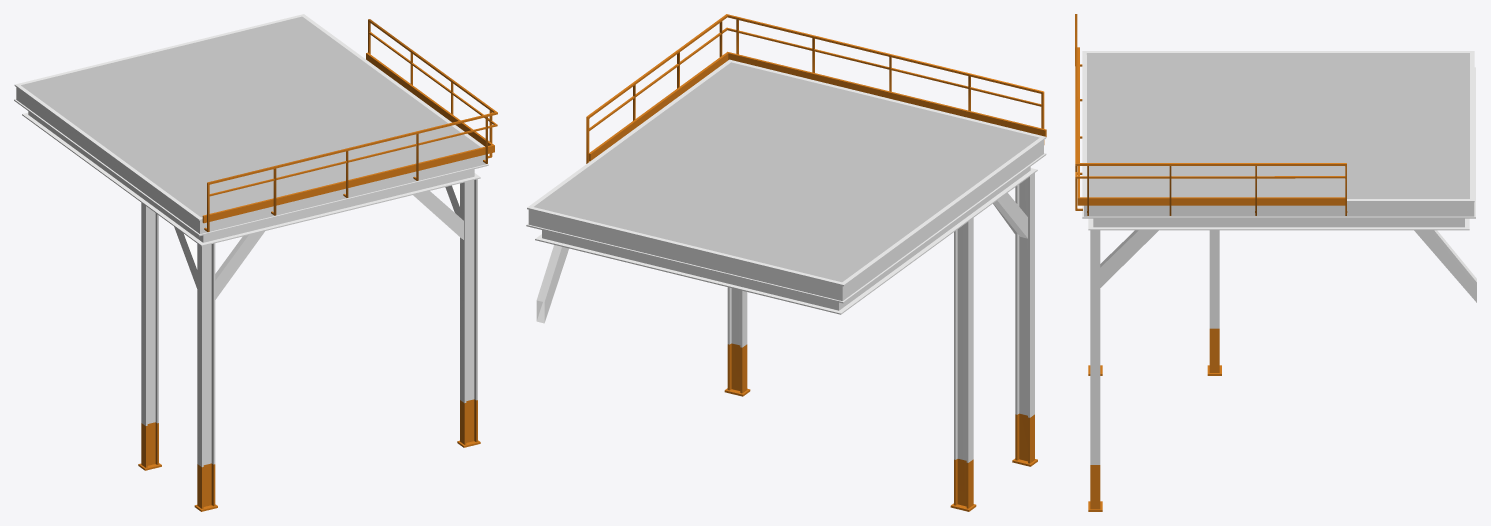
File: SM_H_Building_Tide_Conveyor_02_ATLAS.fbx
The picture shows the model from 3 angles, left to right: view 1: azimuth 30°, elevation 25°; view 2: azimuth 150°, elevation 25°; view 3: azimuth 270°, elevation 25°; orthographic projection. The views are drawn at different scales.
Parts seen in each view (by area): view 1: SM_H_Building_Tide_Conveyor_02_ATLAS; view 2: SM_H_Building_Tide_Conveyor_02_ATLAS; view 3: SM_H_Building_Tide_Conveyor_02_ATLAS.
Boxes of the visible parts, x1,y1,x2,y2 form: SM_H_Building_Tide_Conveyor_02_ATLAS: (14, 14, 497, 511); SM_H_Building_Tide_Conveyor_02_ATLAS: (526, 14, 1046, 511); SM_H_Building_Tide_Conveyor_02_ATLAS: (1075, 14, 1476, 511).
Bounding box in the file's own units: 784 × 870 × 845.
